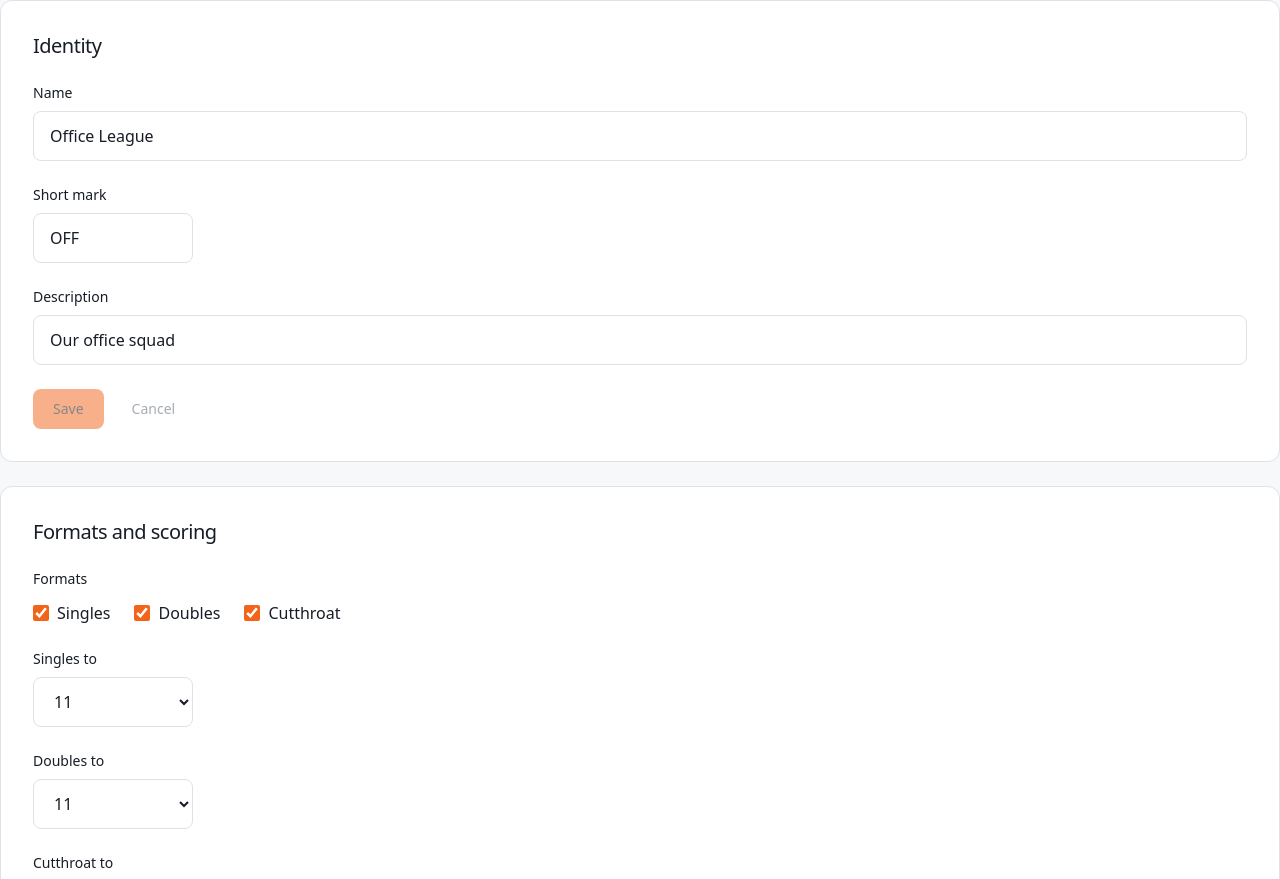
a conflict the stored values already satisfy › still shows the comparison when the stored values are not what it sent
The width and height of the screenshot is (1280, 879).
Replace the text in the field with id "setting-name" with "Renamed" at (640, 136), box [33,111,1247,161]
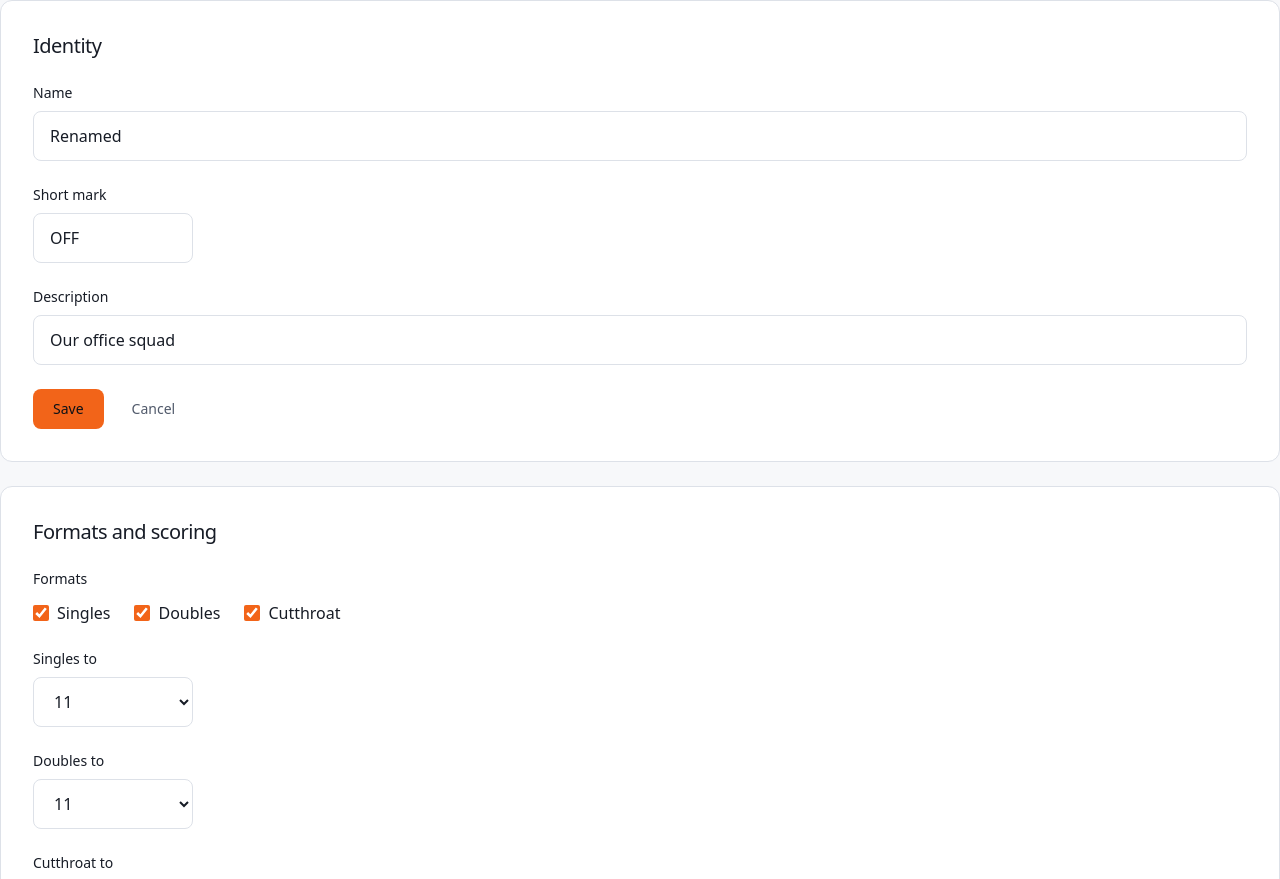
Click the button "Save".
click(68, 409)  # box [33,389,104,429]
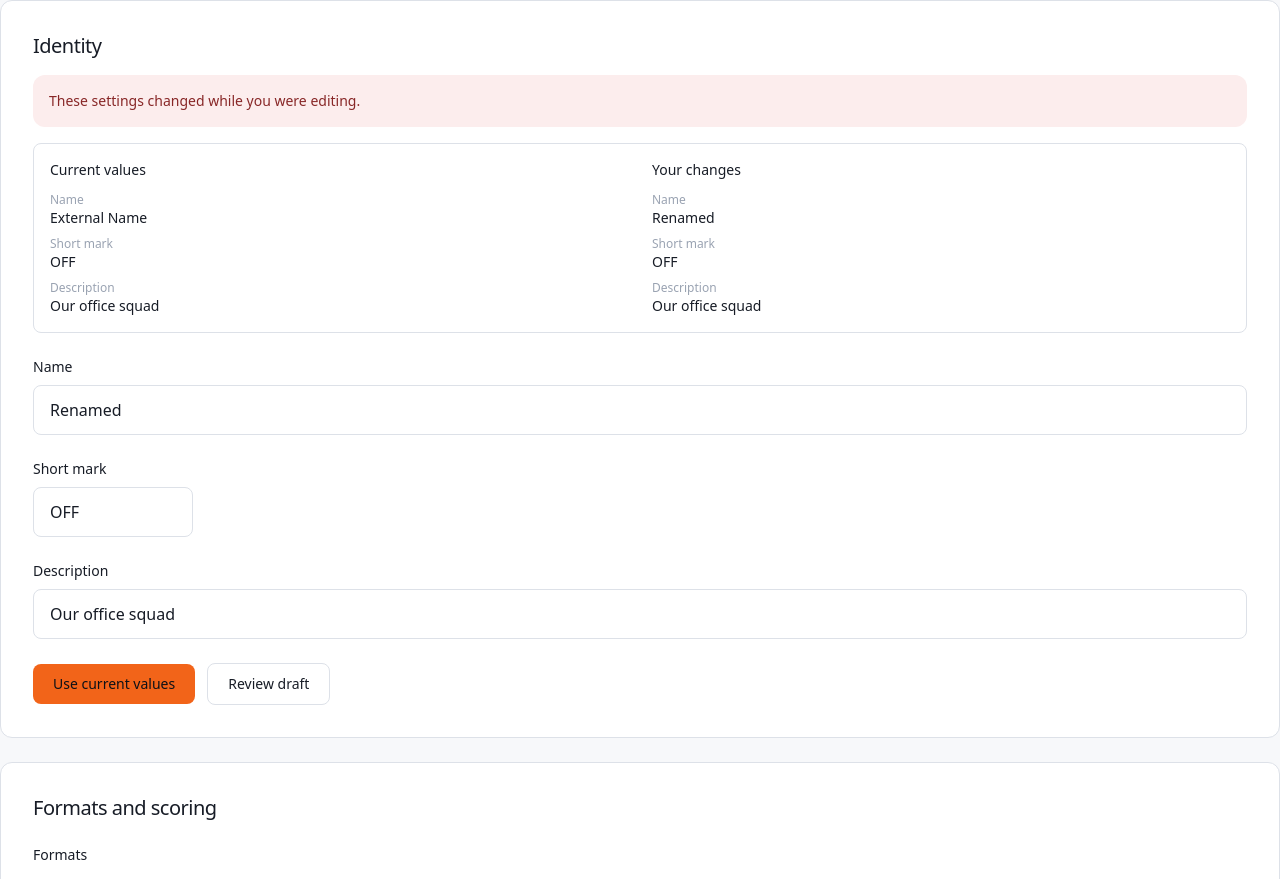
Expected: the button "Use current values" is shown, [33,664,195,704]
Expected: the element that starts with "Identity" shows "These settings changed while you were editing.", [49,91,360,110]
